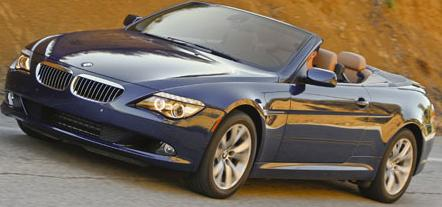front_view: (0, 34, 211, 174)
headlight: (124, 81, 211, 127)
